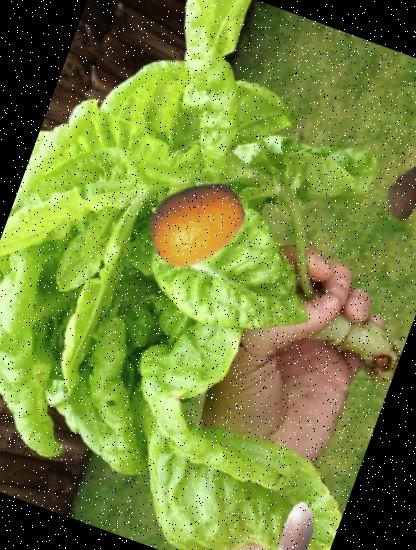Hazelnut: (255, 491, 337, 550)
Kumquats: (134, 161, 260, 287)
Potato: (368, 151, 416, 230)
